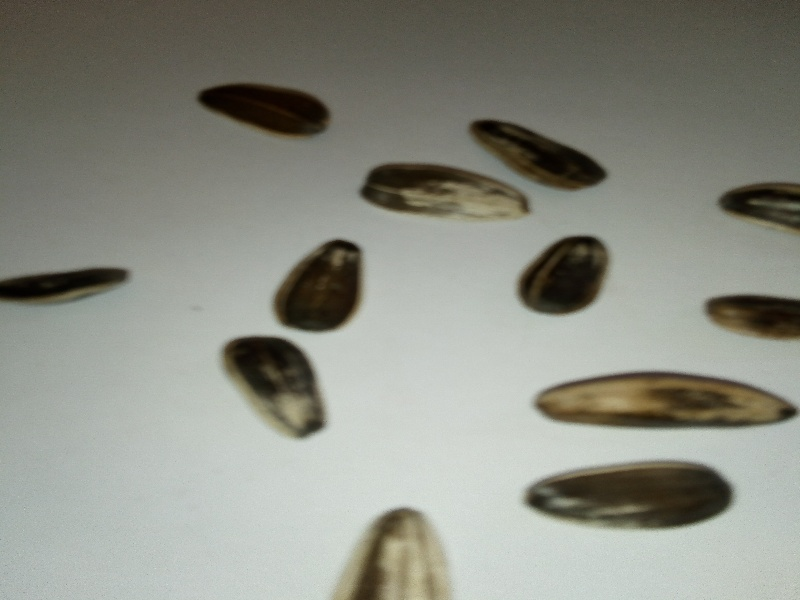girasol: (521, 362, 796, 437), (512, 456, 737, 541), (219, 332, 328, 444), (504, 228, 619, 322)
